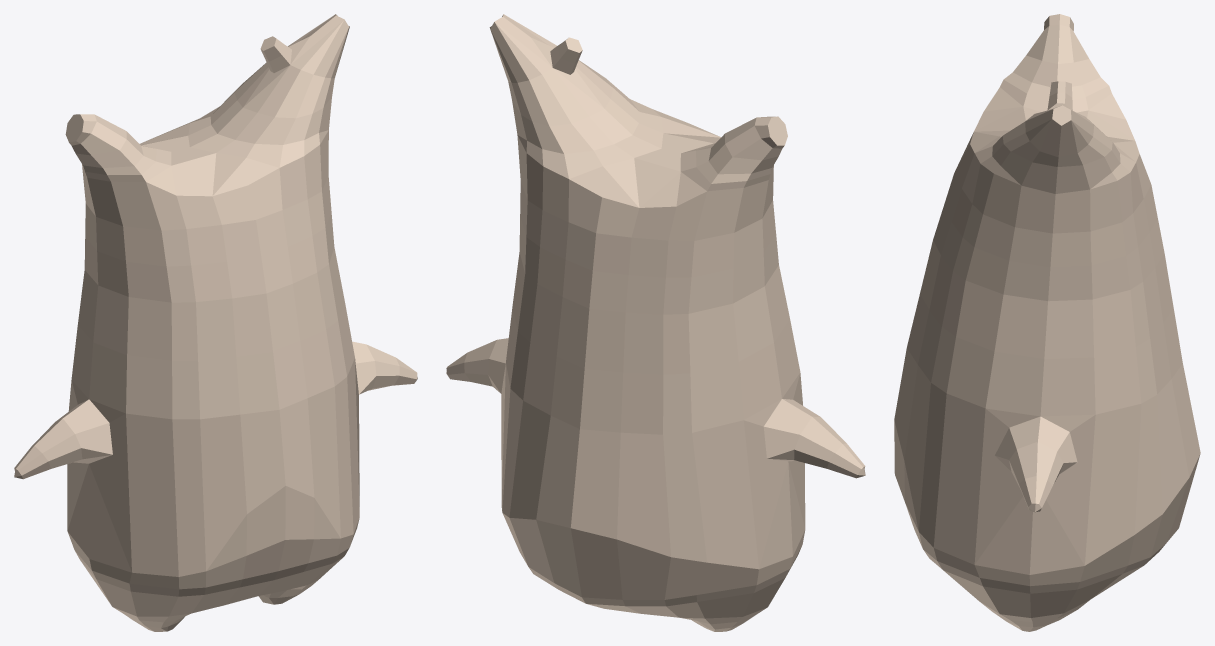
File: frame_0013.obj
3 renders of one model, left to right at view 1: azimuth 30°, elevation 25°; view 2: azimuth 150°, elevation 25°; view 3: azimuth 270°, elevation 25°, orthographic. The views are drawn at different scales.
Visible parts, largest first — view 1: korok; view 2: korok; view 3: korok.
Part boxes in pixels (x1,y1,x2,y2): korok: (14, 14, 417, 631); korok: (446, 14, 865, 631); korok: (894, 14, 1200, 631).
Size of the model in its own units: 1.63 by 2.15 by 1.06.
